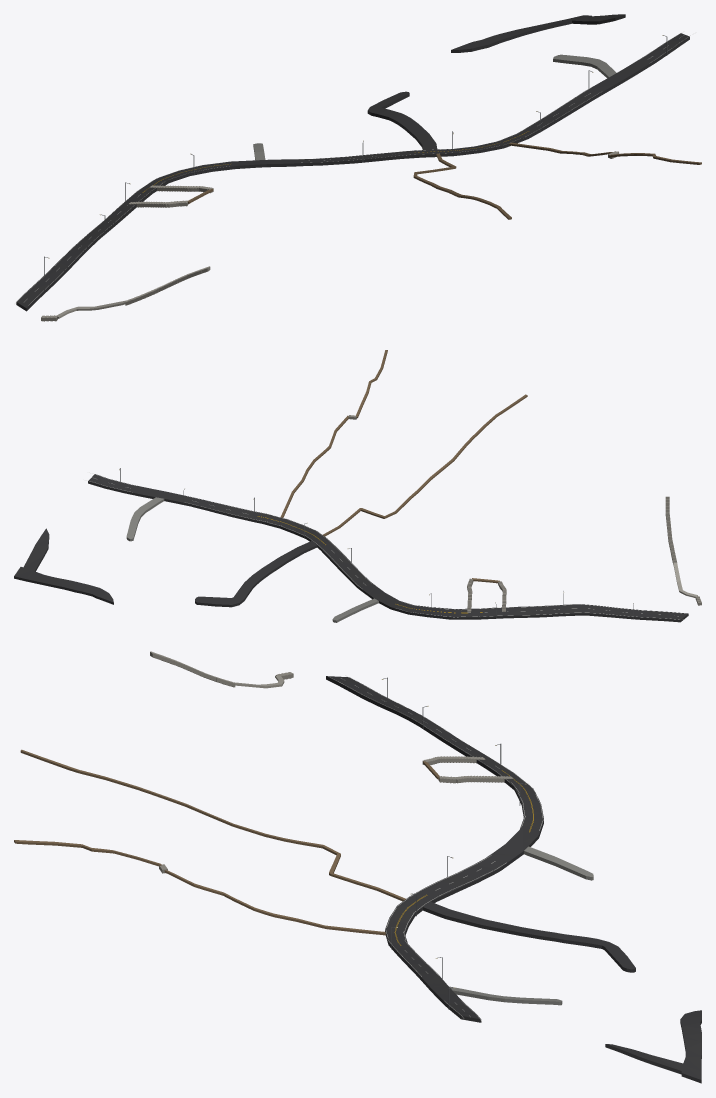
The picture shows the model from 3 angles, top to bottom: view 1: azimuth 30°, elevation 25°; view 2: azimuth 150°, elevation 25°; view 3: azimuth 270°, elevation 25°; orthographic projection. The views are drawn at different scales.
Size of the model in its own units: 298 by 49.76 by 214.
